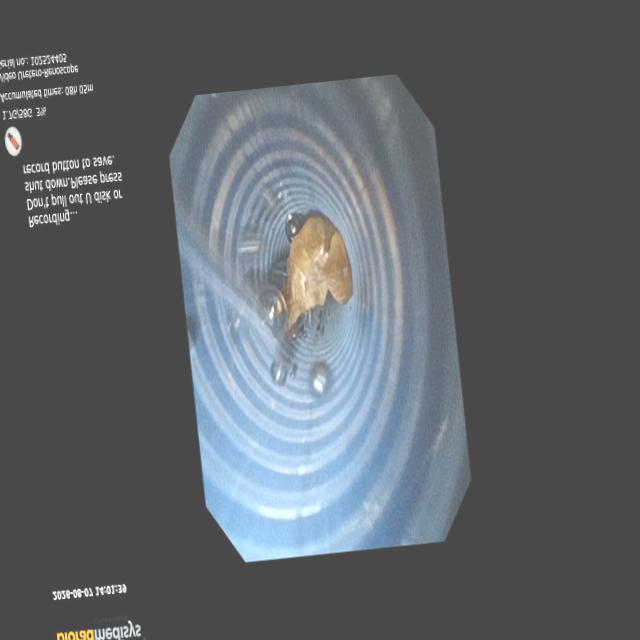stone-new: (287, 217, 328, 323), (323, 231, 352, 304)
